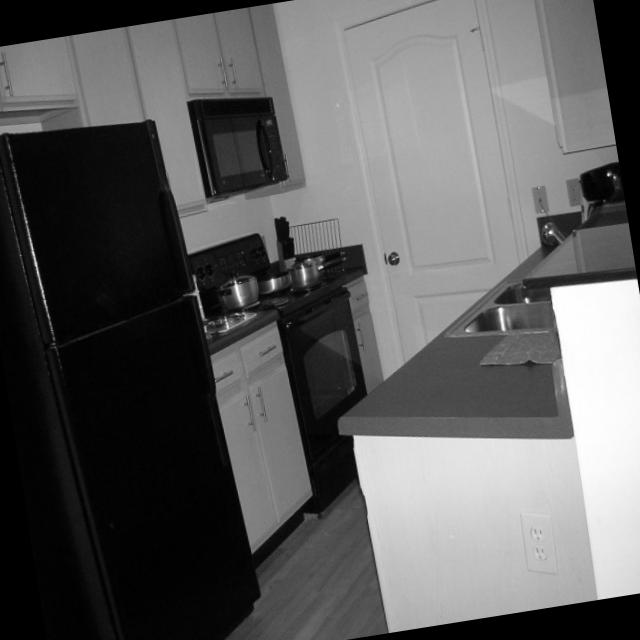2036: (338, 236, 570, 439), (527, 199, 633, 282), (201, 315, 277, 356), (276, 268, 357, 289)
cupboard: (345, 276, 384, 395)
cupboard crop: (356, 285, 640, 629), (209, 318, 313, 568)
cupboard door: (535, 0, 615, 149)
cupboards: (0, 4, 304, 214)
dishcloth: (485, 334, 560, 364)
door opening: (342, 0, 517, 367)
floor -X: (46, 375, 640, 640)
fridge crop: (0, 116, 258, 640)
microwave oven: (189, 95, 286, 201)
saucepan: (291, 251, 342, 288), (218, 272, 259, 308)
sink tub: (451, 279, 553, 335)
socket: (524, 518, 555, 574), (532, 187, 549, 213)
stove oven: (194, 232, 364, 517)
wall clock: (0, 16, 310, 621), (236, 0, 424, 421), (476, 0, 640, 377)
